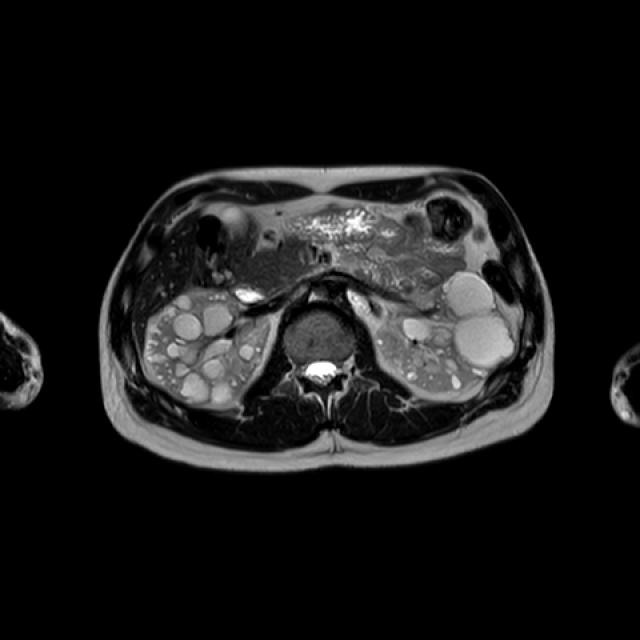sag: (146, 289, 271, 405)
sol: (373, 270, 518, 393)
